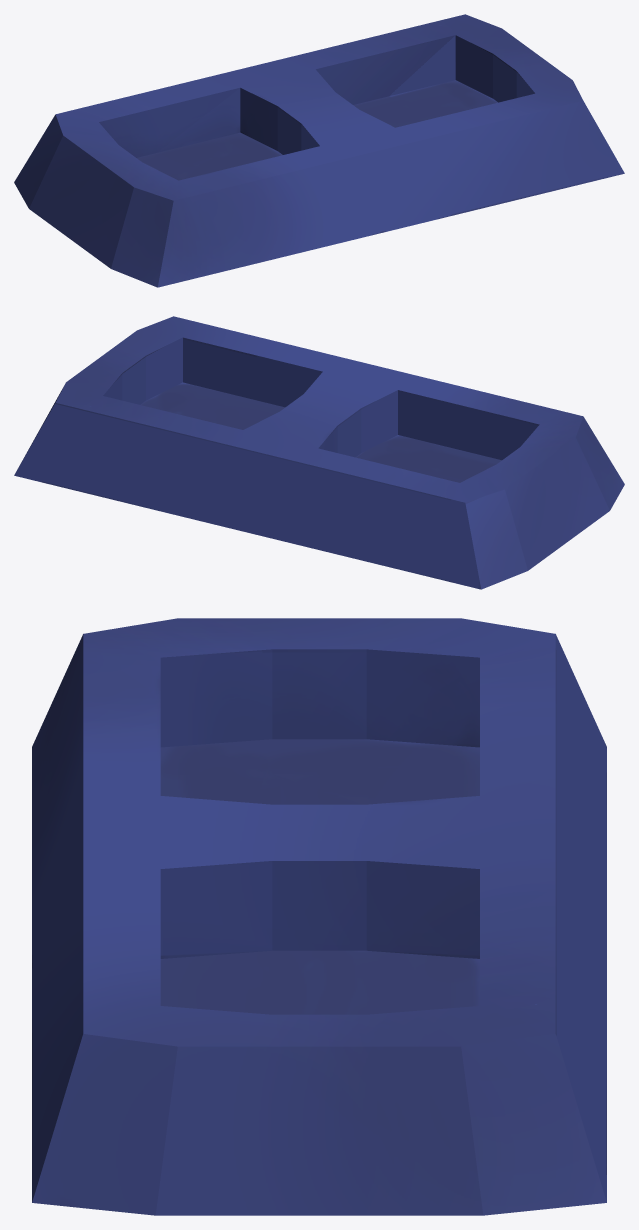
Rendered from DogBowl.fbx.
The picture shows the model from 3 angles, top to bottom: view 1: azimuth 30°, elevation 25°; view 2: azimuth 150°, elevation 25°; view 3: azimuth 270°, elevation 25°; orthographic projection. The views are drawn at different scales.
Parts seen in each view (by area): view 1: Cube; view 2: Cube; view 3: Cube.
Boxes of the visible parts, bbox=[...] form: Cube: bbox=[14, 14, 624, 287]; Cube: bbox=[14, 316, 624, 589]; Cube: bbox=[32, 618, 606, 1215].
Size of the model in its own units: 133 by 18.06 by 66.72.
